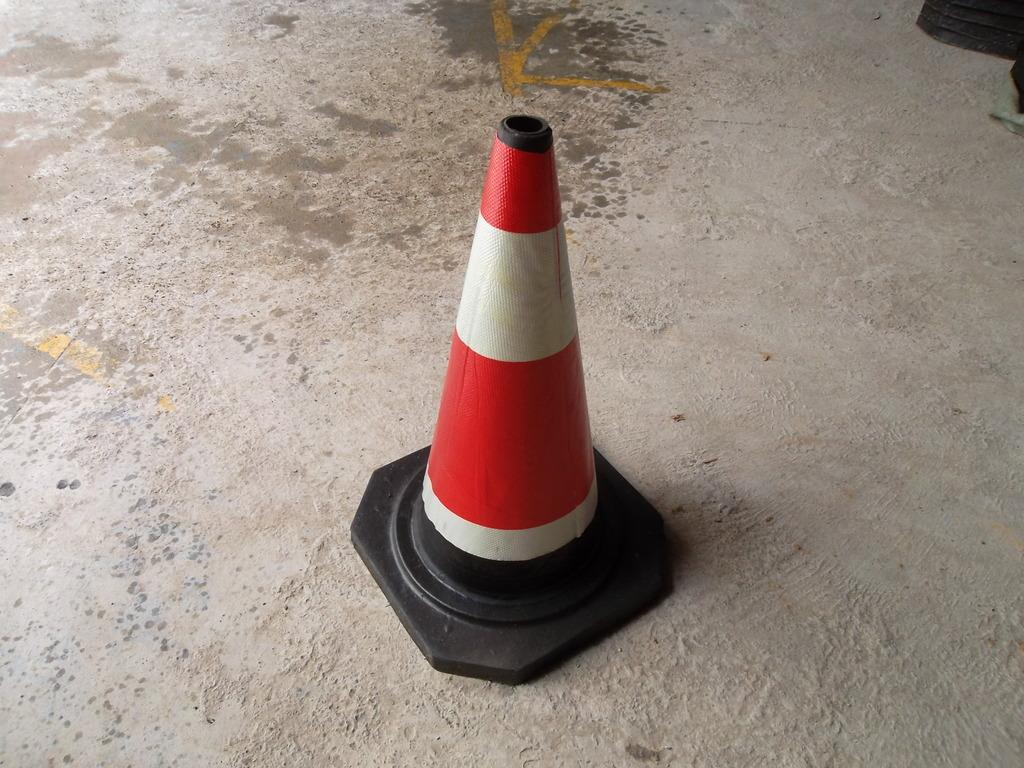sign: (318, 114, 690, 687)
